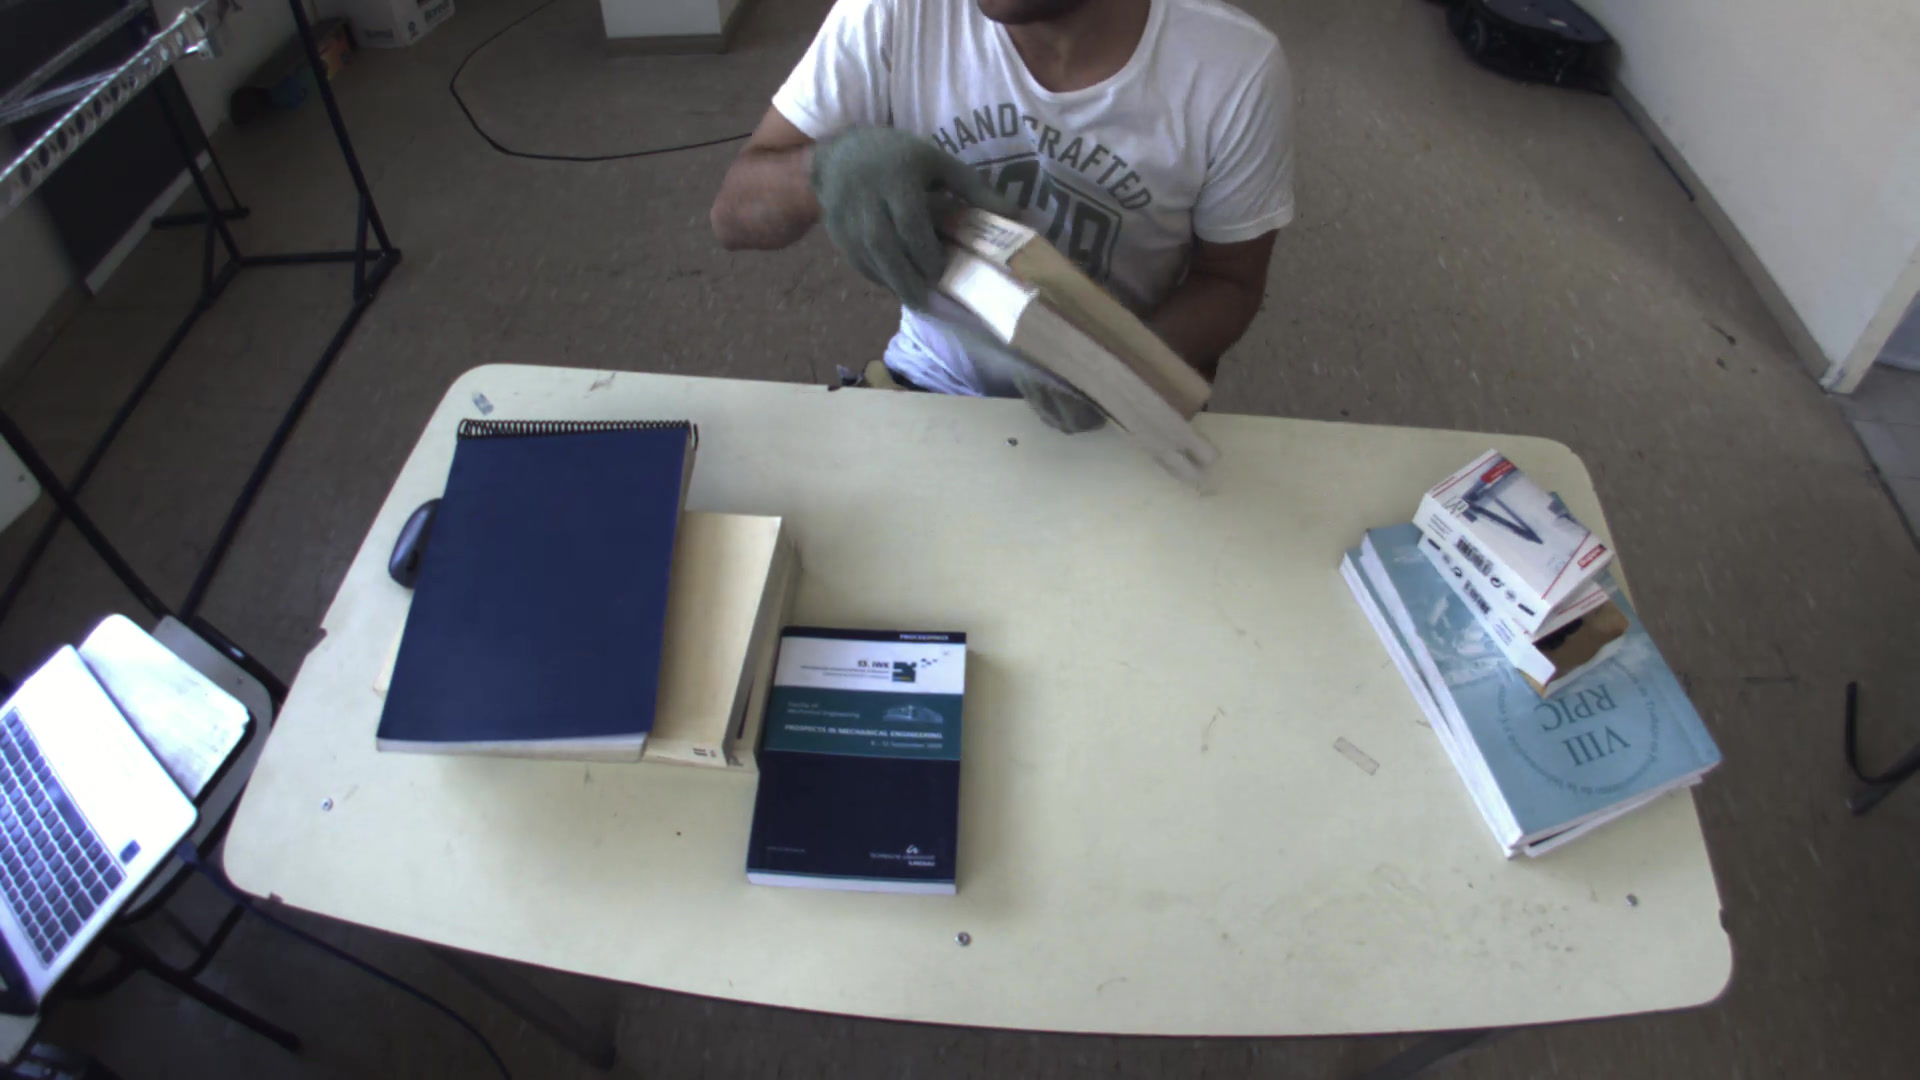hand: (804, 113, 1015, 301)
